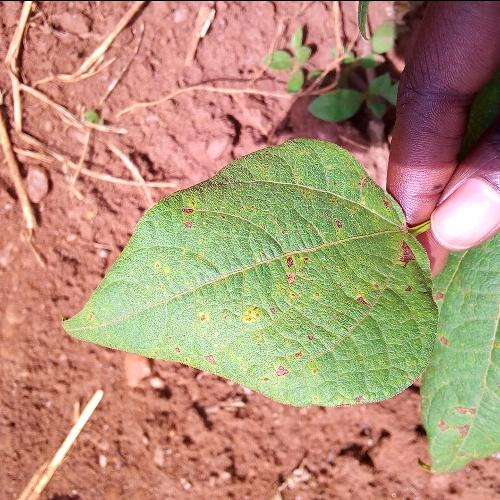hawar: (117, 167, 434, 388)
